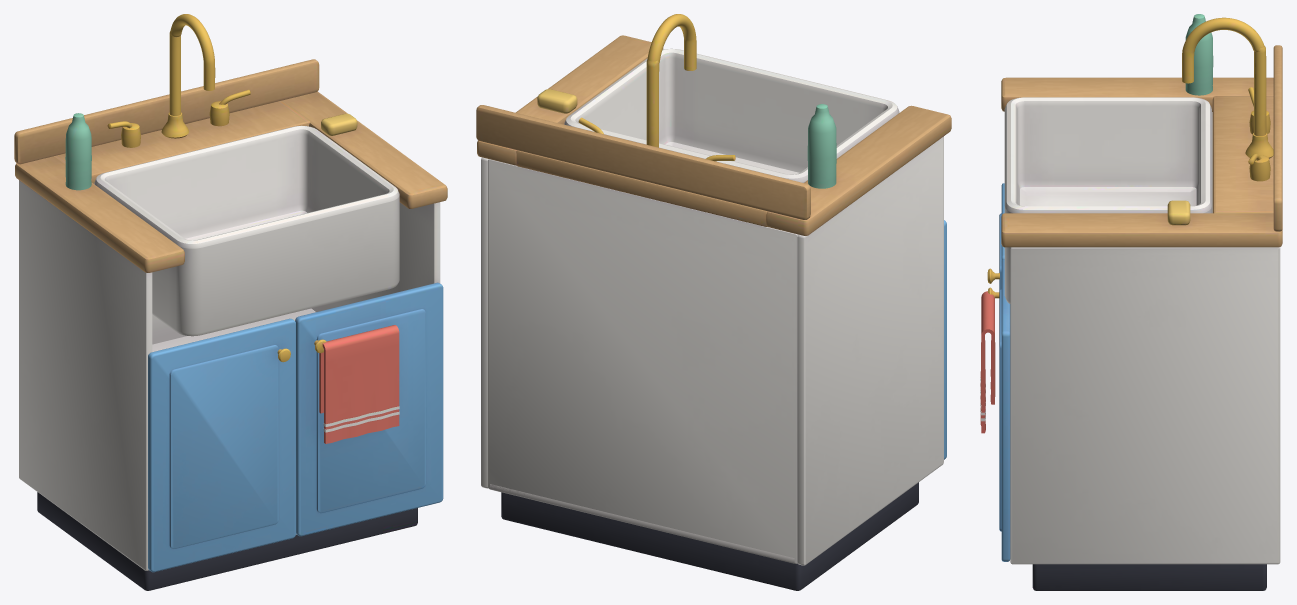
The model's file is kitchen-sink.glb.
3 views of the same model, side by side, from view 1: azimuth 30°, elevation 25°; view 2: azimuth 150°, elevation 25°; view 3: azimuth 270°, elevation 25° (orthographic). The views are drawn at different scales.
Visible parts, largest first — view 1: kitchen-sink_body, kitchen-sink_door; view 2: kitchen-sink_body, kitchen-sink_door; view 3: kitchen-sink_body, kitchen-sink_door.
Boxes of the visible parts, left/top/right/bottom form: kitchen-sink_body: left=14, top=14, right=447, bottom=590; kitchen-sink_door: left=148, top=318, right=295, bottom=572; kitchen-sink_body: left=476, top=14, right=951, bottom=590; kitchen-sink_door: left=944, top=220, right=946, bottom=459; kitchen-sink_body: left=980, top=14, right=1282, bottom=590; kitchen-sink_door: left=987, top=183, right=1004, bottom=290.
Bounding box in the file's own units: 0.82 × 1.23 × 0.6713.
2 materials, 2 textured.
